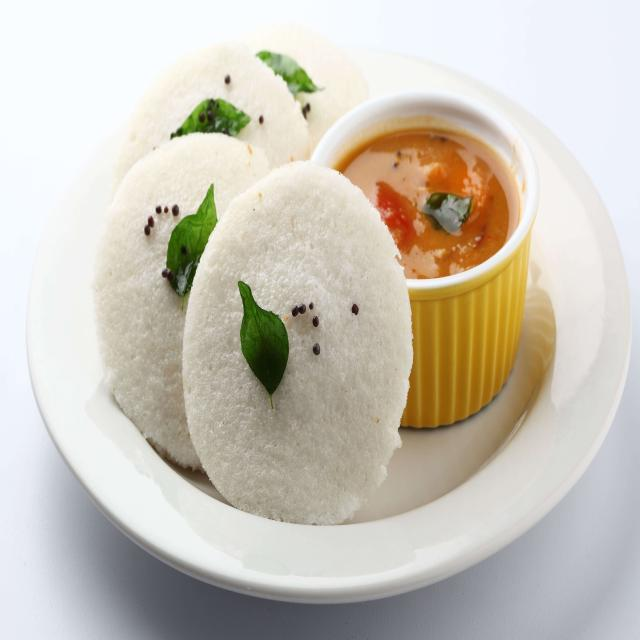Wet Waste: (182, 157, 414, 535), (95, 125, 312, 489), (106, 52, 312, 294)
